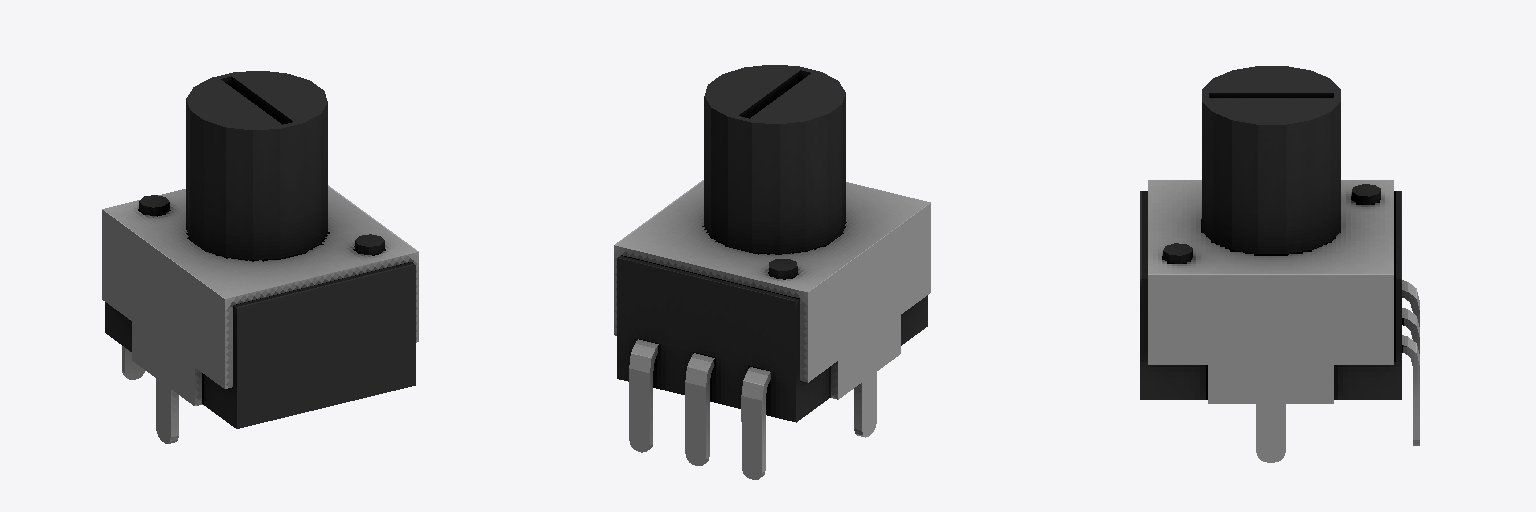
3 views of the same model, side by side, from view 1: azimuth 30°, elevation 25°; view 2: azimuth 150°, elevation 25°; view 3: azimuth 270°, elevation 25° (orthographic).
Parts seen in each view (by area): view 1: Cube.020_Cube.041; view 2: Cube.020_Cube.041; view 3: Cube.020_Cube.041.
Part boxes in pixels (bbox=[...]): Cube.020_Cube.041: bbox=[102, 71, 418, 443]; Cube.020_Cube.041: bbox=[614, 65, 930, 479]; Cube.020_Cube.041: bbox=[1140, 66, 1419, 462].
Size of the model in its own units: 0.0511 by 0.0799 by 0.0638.
1 materials, 1 textured.